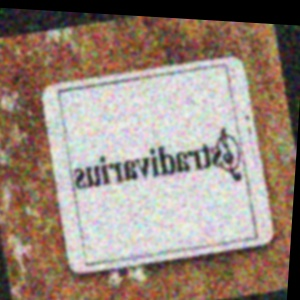stradivarius: (213, 68, 293, 167)
